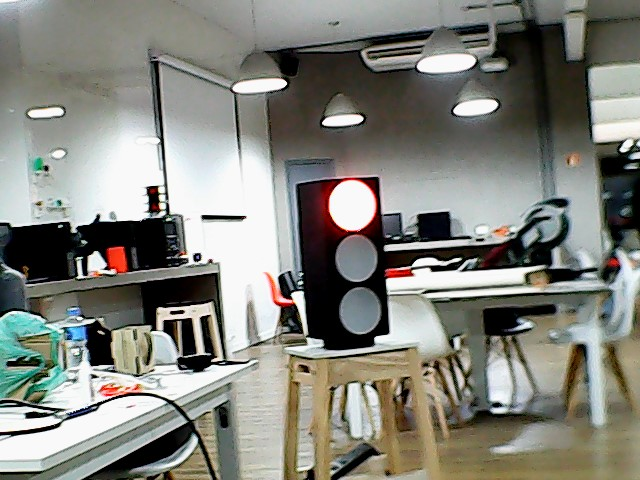vermelho: (294, 173, 396, 349)
